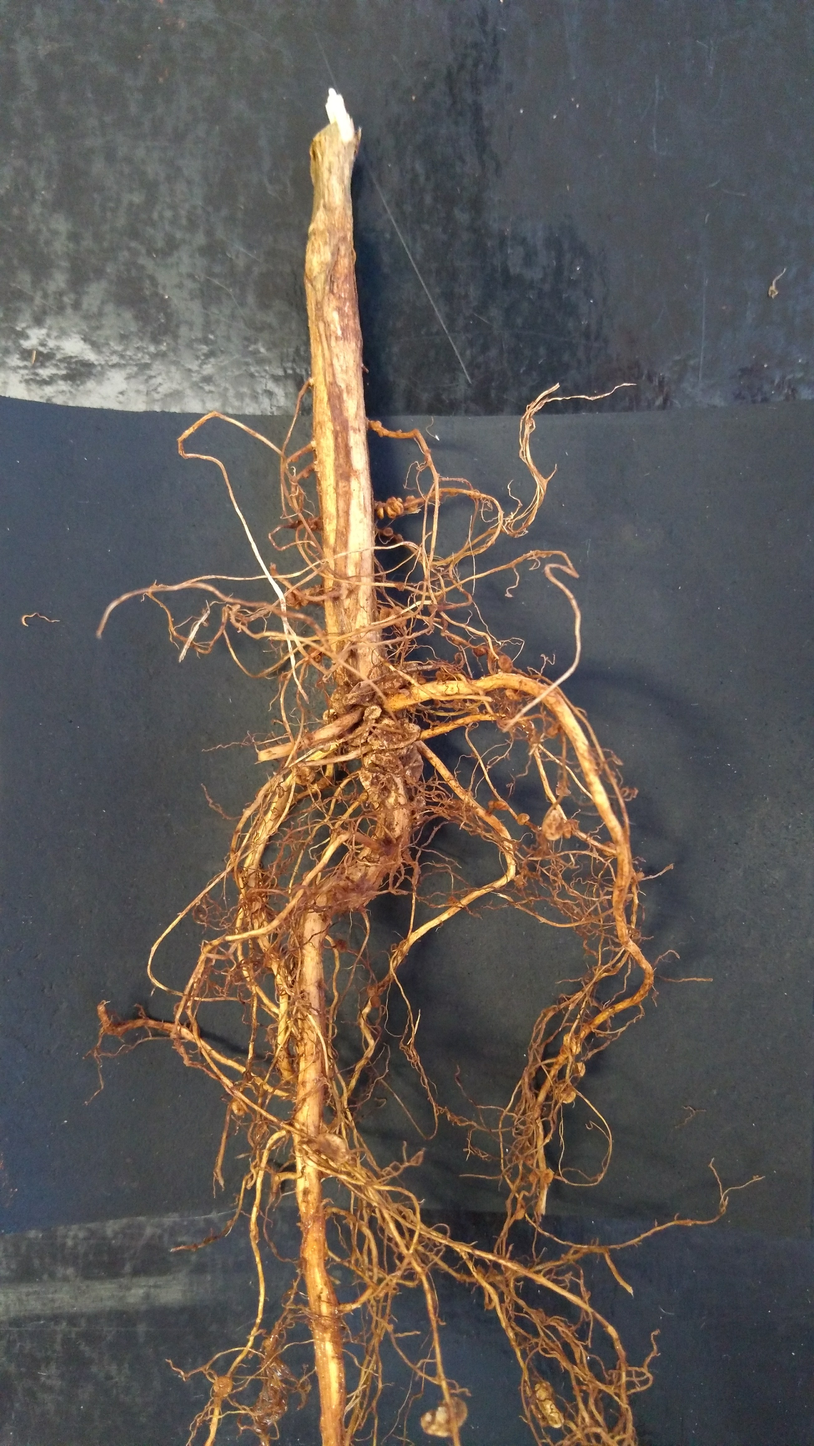nodule: (419, 1395, 474, 1441), (365, 716, 420, 751), (532, 1379, 564, 1432), (316, 1130, 351, 1167), (207, 1371, 237, 1404), (538, 805, 564, 843), (329, 685, 357, 716), (399, 751, 425, 784), (354, 765, 387, 790), (383, 666, 411, 695), (350, 682, 379, 705), (344, 720, 369, 744), (285, 584, 308, 609), (552, 1081, 576, 1104), (292, 764, 315, 786), (411, 795, 428, 824), (385, 495, 405, 519), (563, 1031, 582, 1056), (496, 653, 517, 674), (404, 492, 421, 517), (360, 704, 383, 722), (377, 605, 395, 627), (392, 603, 407, 629), (397, 660, 421, 676), (314, 894, 336, 911), (487, 797, 511, 812), (368, 666, 389, 683), (554, 780, 571, 798), (516, 810, 532, 829), (229, 1099, 245, 1118), (562, 821, 576, 842), (320, 707, 337, 724), (600, 840, 617, 857), (539, 1168, 555, 1186), (471, 645, 490, 660), (505, 686, 522, 702), (368, 994, 383, 1009), (575, 1060, 587, 1078), (528, 1168, 540, 1183), (414, 675, 429, 687), (358, 790, 370, 804), (375, 504, 384, 521), (394, 581, 406, 593), (433, 670, 446, 681), (320, 743, 332, 754), (383, 526, 394, 537), (451, 638, 462, 646), (314, 653, 322, 662), (395, 533, 405, 539)
